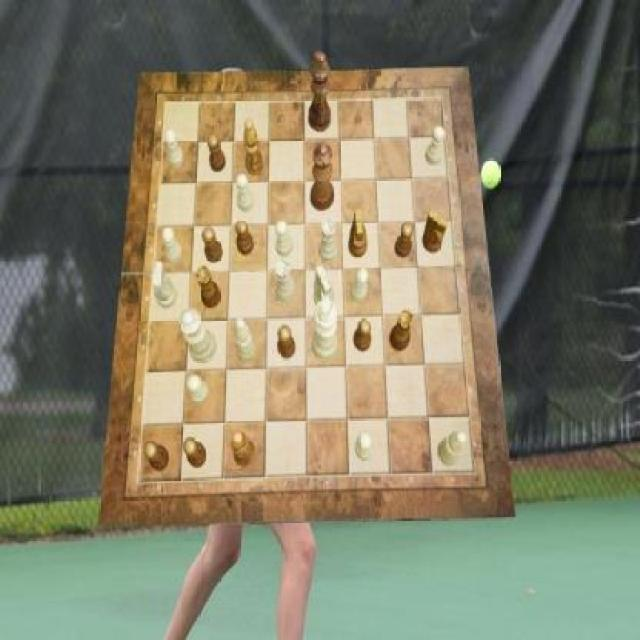bishop: (244, 119, 264, 176), (230, 432, 254, 468)
black-bishop: (308, 51, 330, 132)
black-king: (423, 210, 449, 254), (349, 210, 368, 258)
black-knight: (144, 442, 170, 472), (207, 134, 226, 172), (183, 437, 206, 468), (202, 228, 222, 262), (236, 220, 254, 256), (395, 222, 413, 258), (279, 324, 296, 358), (354, 318, 371, 352)
black-pawn: (310, 143, 334, 211)
black-queen: (196, 265, 220, 307), (390, 311, 414, 352)
black-rook: (234, 317, 256, 362), (439, 430, 466, 466)
white-bishop: (312, 295, 338, 361)
white-king: (152, 262, 177, 309), (314, 266, 334, 310)
white-knight: (426, 126, 446, 166), (164, 129, 183, 168), (163, 228, 183, 264), (275, 220, 293, 258), (235, 174, 253, 211), (186, 377, 209, 405), (351, 268, 368, 302), (355, 432, 373, 460)
white-pawn: (179, 308, 216, 364)
white-queen: (318, 218, 338, 264), (276, 258, 296, 302)
